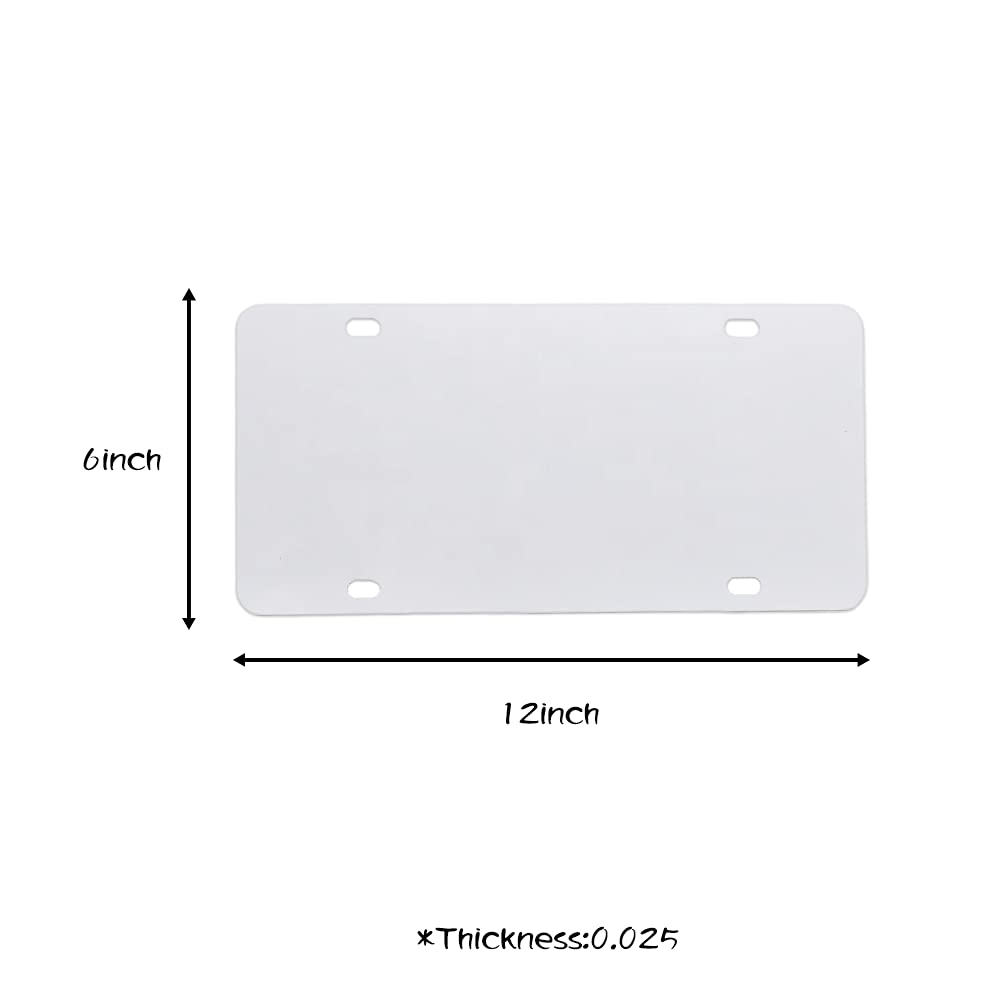1Zinch: (505, 703, 598, 724)
xThickness:0.025: (418, 927, 678, 949)
